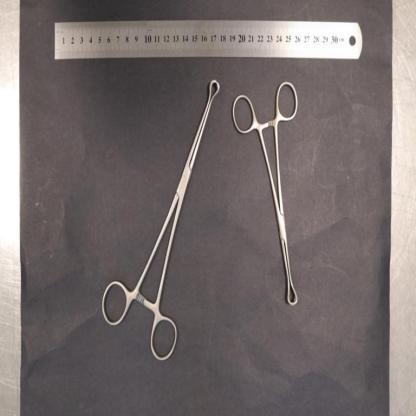8 Babcock Tissue Forceps: (101, 79, 220, 361)
Babcock Tissue Forceps: (232, 82, 300, 306)
